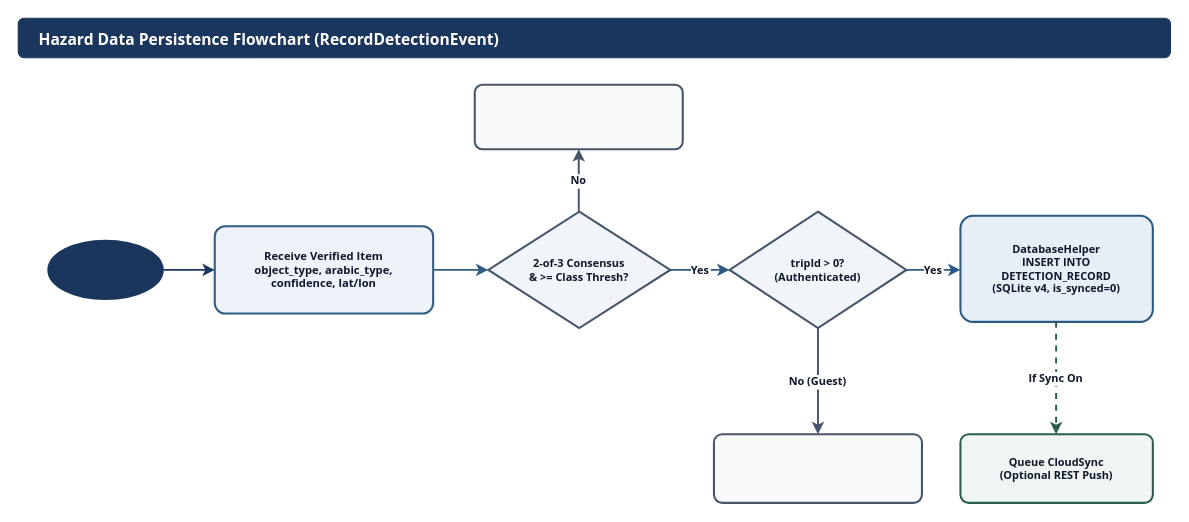
This 1189x522 diagram has some shape labels left out. The shapes that lost their labels are listed below. From the top down, each one's centre as x and y in pixels, then its label:
point (578, 116): Skip Recording (Monitor Next Frame)
point (105, 269): Detection Frame
point (817, 468): Guest Mode (tripId = 0) Bypass Disk & Cloud Save
